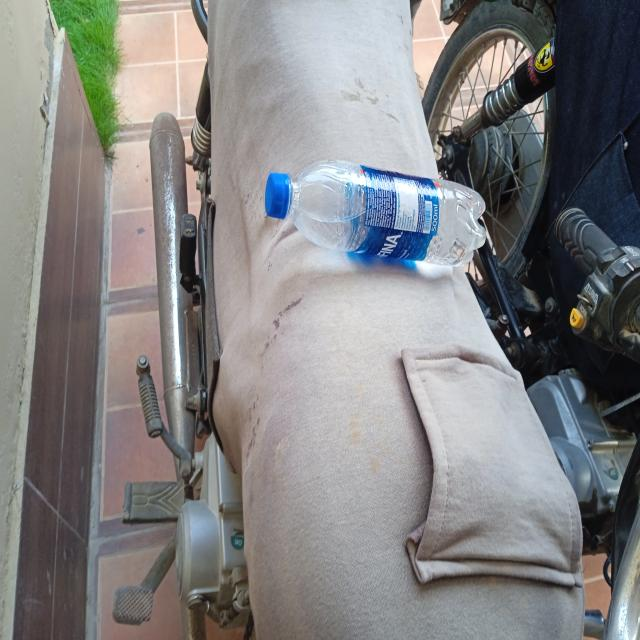Plastic: (264, 161, 489, 272)
